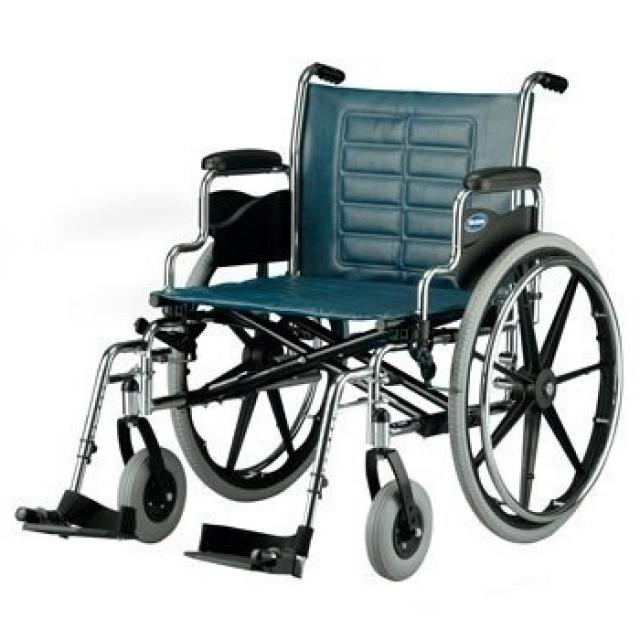wheelchair: (14, 53, 631, 592)
